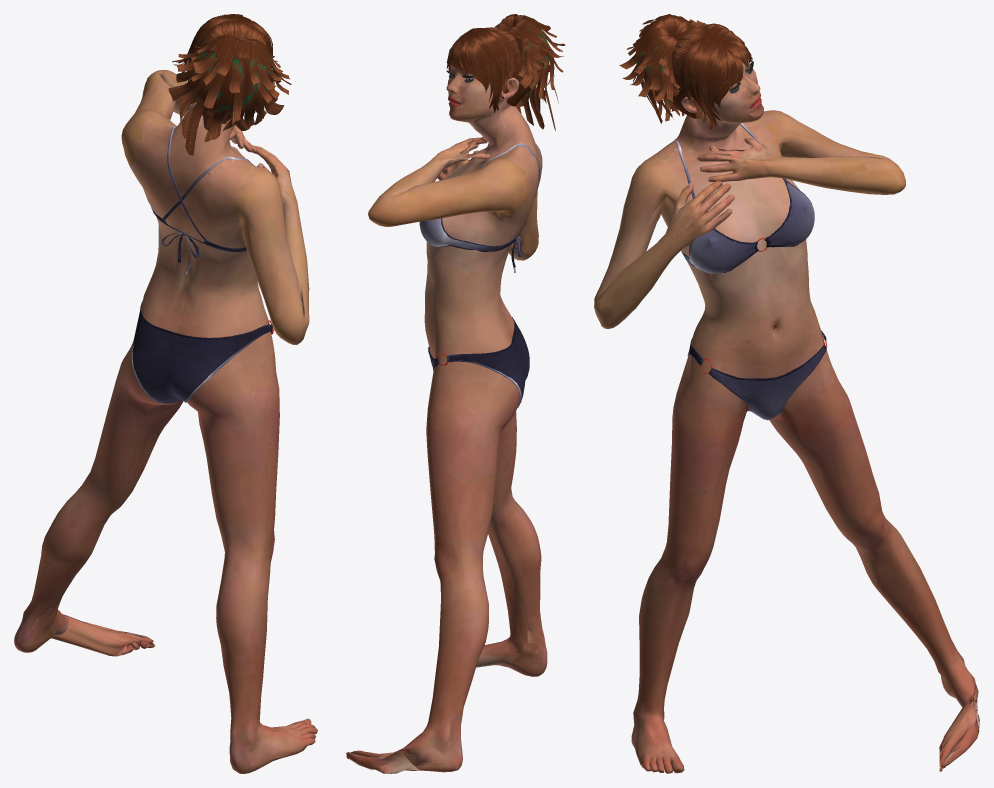
File: bikini_jde.glb
3 views of the same model, side by side, from view 1: azimuth 30°, elevation 25°; view 2: azimuth 150°, elevation 25°; view 3: azimuth 270°, elevation 25° (orthographic). The views are drawn at different scales.
Bounding box in the file's own units: 0.3807 × 1.68 × 0.8053.
13 materials, 7 textured.
